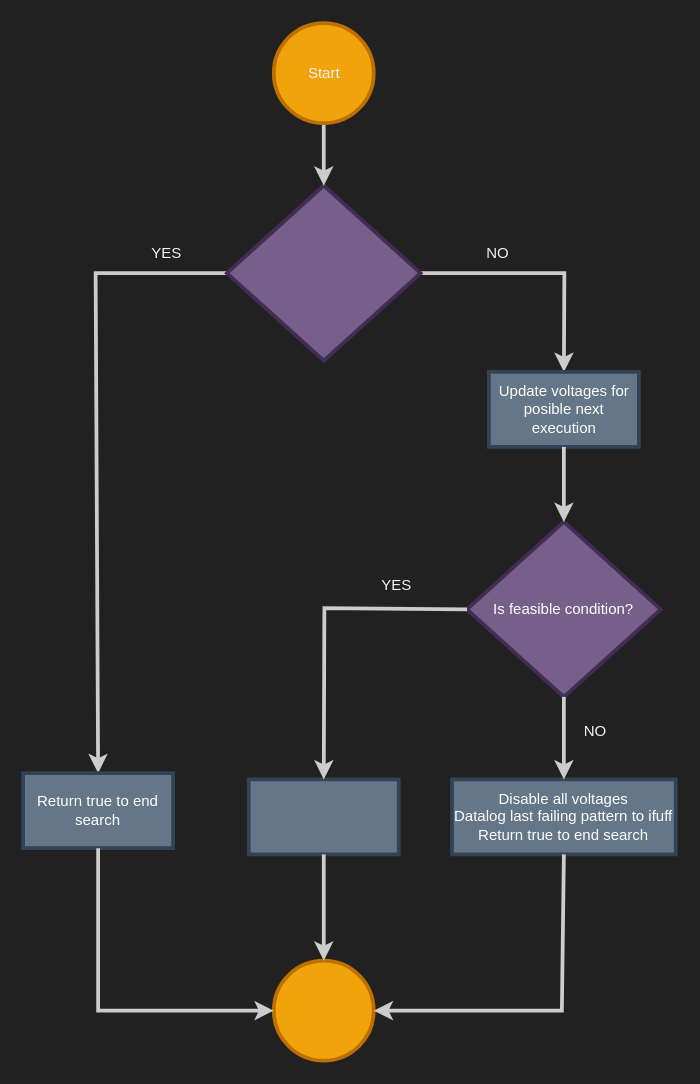
Image size: 700x1084. Some labels were removed from this diagram. Each missing label, with the centre of its shape:
"End" belongs at pixel 323 1010.
"isProcessResultPass?" belongs at pixel 323 272.
"Return false to continue searching" belongs at pixel 323 816.
